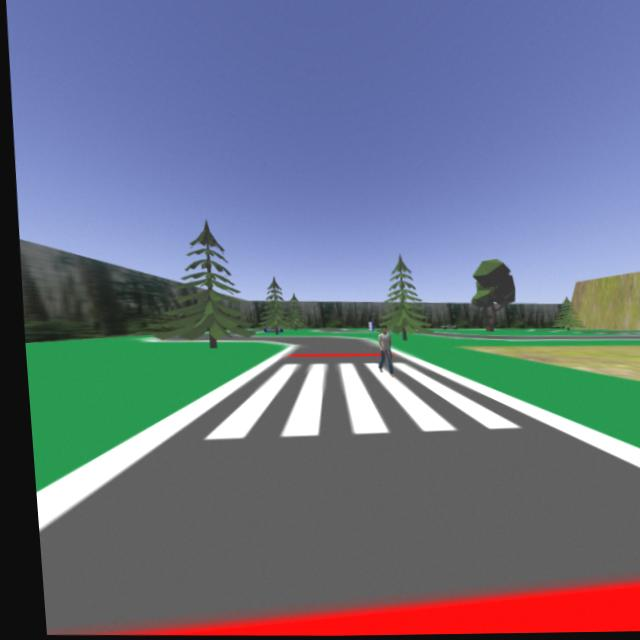pedestrian: (374, 320, 396, 375)
